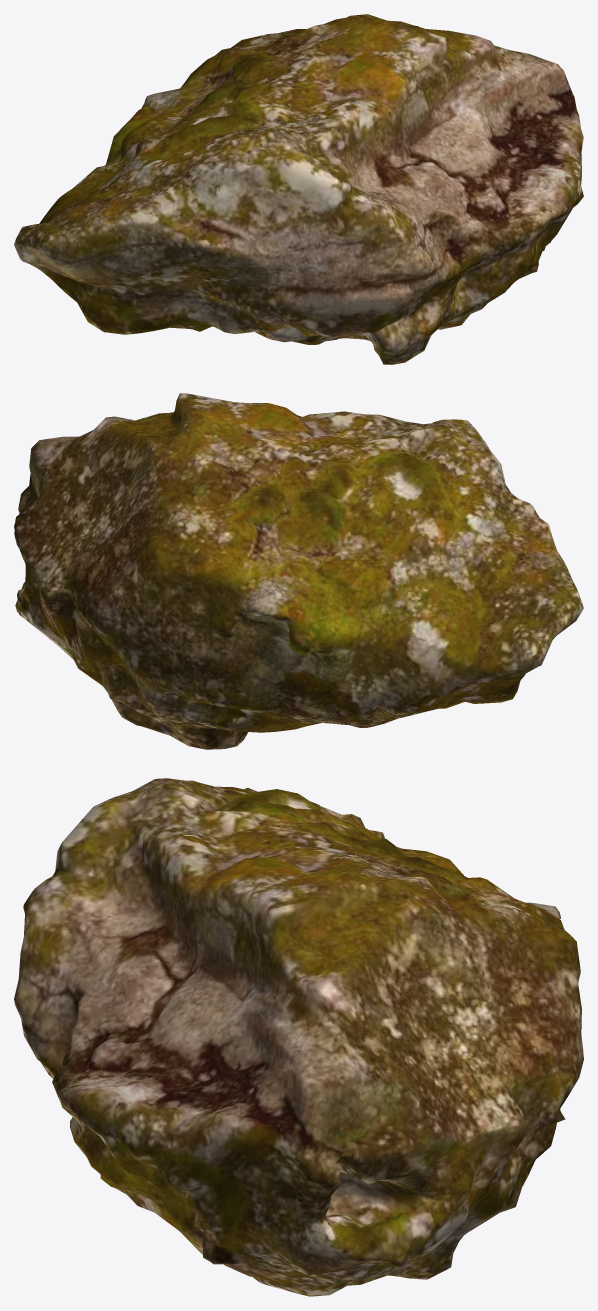
File: rock3.glb
3 views of the same model, one above another, from view 1: azimuth 30°, elevation 25°; view 2: azimuth 150°, elevation 25°; view 3: azimuth 270°, elevation 25° (orthographic). The views are drawn at different scales.
Parts seen in each view (by area): view 1: pjtsT_LOD0_TIER2_000_MatID_1_0; view 2: pjtsT_LOD0_TIER2_000_MatID_1_0; view 3: pjtsT_LOD0_TIER2_000_MatID_1_0.
Boxes of the visible parts, x1,y1,x2,y2 form: pjtsT_LOD0_TIER2_000_MatID_1_0: (14,14,583,364); pjtsT_LOD0_TIER2_000_MatID_1_0: (14,393,583,749); pjtsT_LOD0_TIER2_000_MatID_1_0: (14,778,583,1296).
Bounding box in the file's own units: 1.3 × 0.7004 × 0.8923.
Materials: 1 (1 with a texture image).
